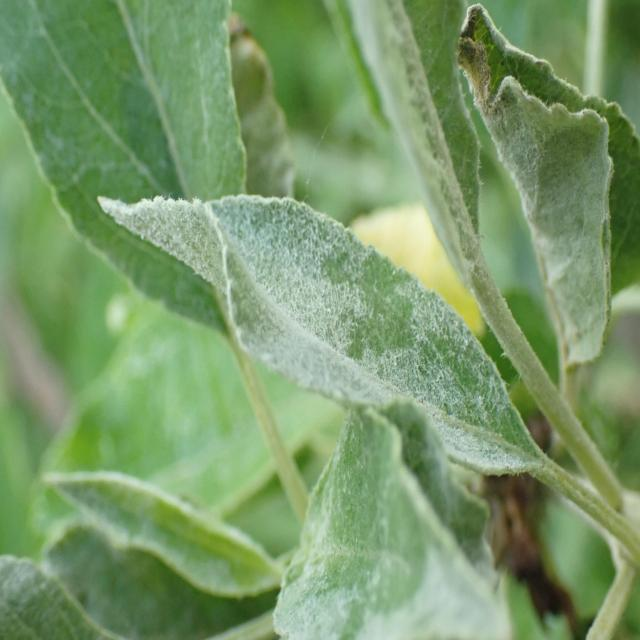Powdery_mildew: (98, 166, 549, 478), (2, 0, 299, 413), (238, 412, 544, 640), (456, 1, 614, 432), (334, 0, 504, 302)
